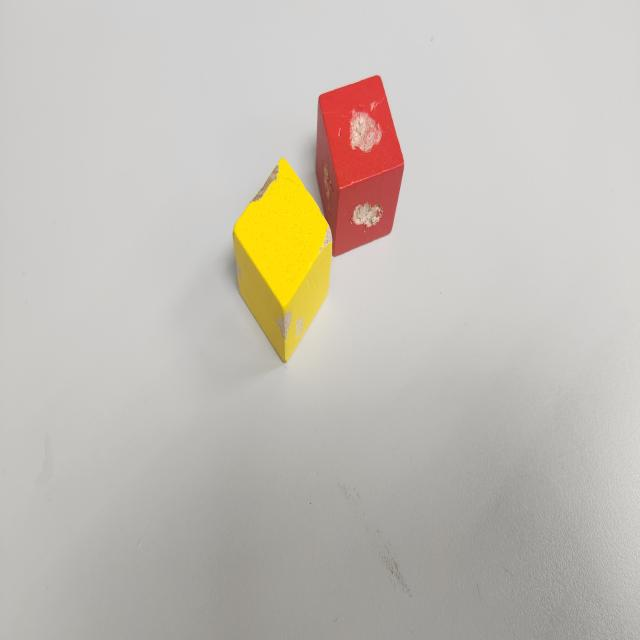broken: (234, 158, 332, 365), (317, 75, 404, 256)
